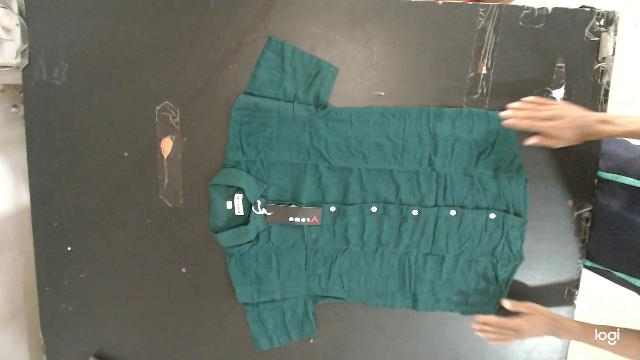new-garment: (209, 37, 527, 349)
